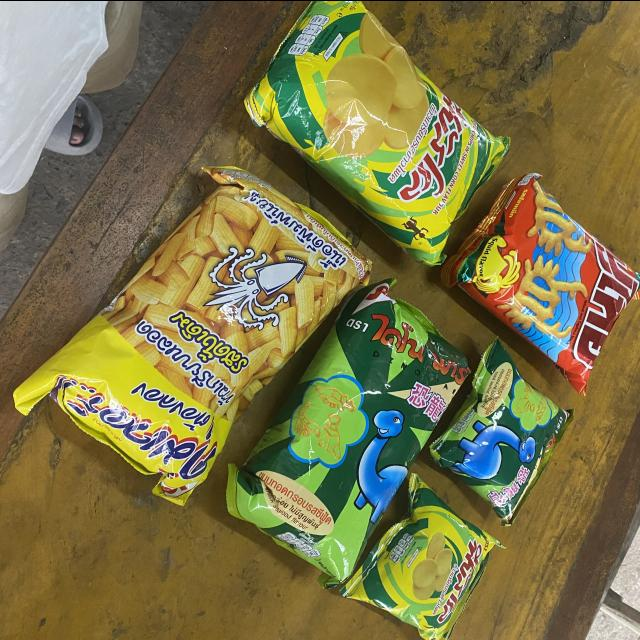plastik: (15, 167, 371, 503), (227, 278, 469, 585), (245, 0, 510, 265), (441, 172, 640, 393), (342, 473, 502, 640), (431, 340, 574, 524)
